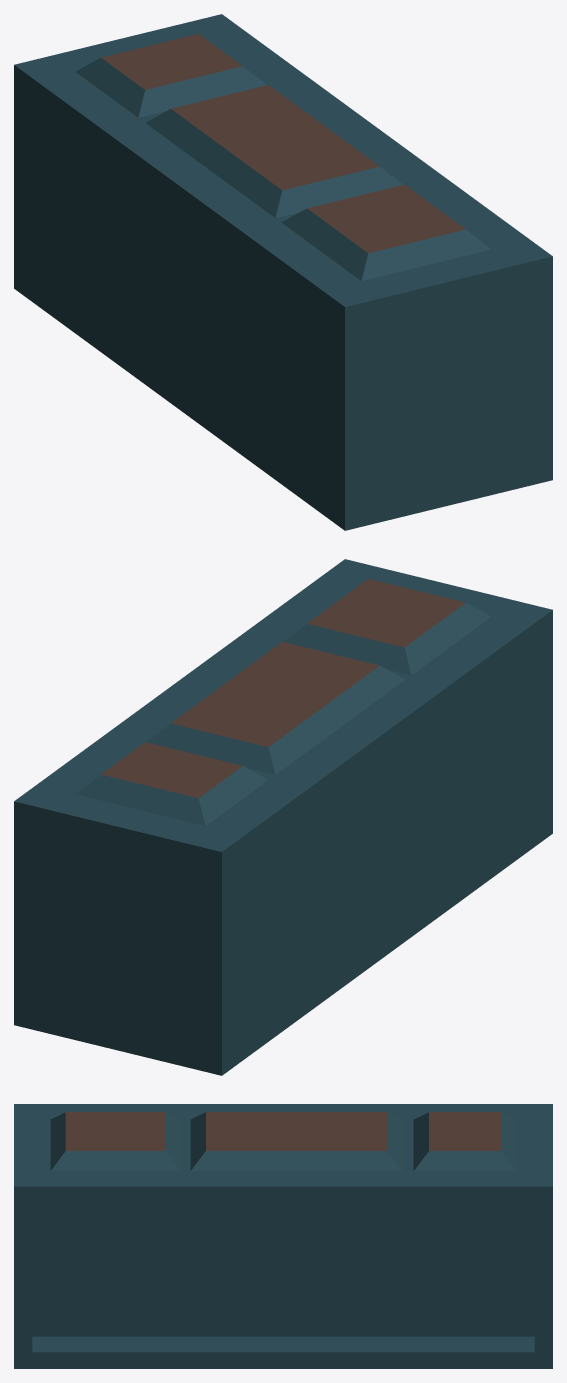
Rendered from Alarm Clock.fbx.
3 renders of one model, top to bottom at view 1: azimuth 30°, elevation 25°; view 2: azimuth 150°, elevation 25°; view 3: azimuth 270°, elevation 25°, orthographic. The views are drawn at different scales.
Parts seen in each view (by area): view 1: Cube; view 2: Cube; view 3: Cube.
Part boxes in pixels (bbox=[...]): Cube: bbox=[14, 14, 552, 530]; Cube: bbox=[14, 559, 552, 1075]; Cube: bbox=[14, 1104, 552, 1368].
Size of the model in its own units: 114 by 126 by 315.
